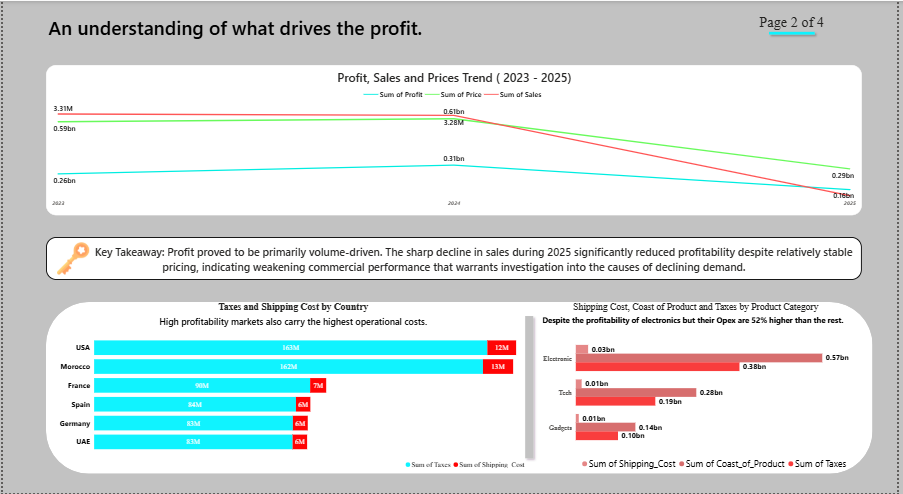

What the dashboard file says about the page in this screenshot:
{"tool":"powerbi","page":{"name":"Page 2","canvas":[2000,1100],"ordinal":1},"visuals":[{"type":"areaChart","title":"Profit, Sales and Prices Trend ( 2023 - 2025)","fields":{"Category":["DateDim.Year"],"Y":["Sum(SalesFactTable.Profit)","Sum(SalesFactTable.Price)"],"Y2":["Sum(SalesFactTable.Sales)"]},"box":[96,144,1824,336],"z":0},{"type":"shape","box":[96,672,1848,384],"z":1000},{"type":"clusteredBarChart","title":" Shipping Cost, Coast of Product and  Taxes by Product Category","fields":{"Category":["Product_Dim.Product_Category"],"Y":["Sum(SalesFactTable.Shipping_Cost)","Sum(SalesFactTable.Coast_of_Product)","Sum(SalesFactTable.Taxes)"]},"box":[1200,672,696,384],"z":2000},{"type":"barChart","title":"Taxes and Shipping Cost by Country","fields":{"Category":["Geo_Dim.Country"],"Y":["Sum(SalesFactTable.Taxes)","Sum(SalesFactTable.Shipping_Cost)"]},"box":[120,672,1056,384],"z":3000},{"type":"textbox","box":[1608,24,312,96],"z":4000},{"type":"shape","box":[1704,0,120,144],"z":5000},{"type":"textbox","box":[96,24,1056,96],"z":6000},{"type":"shape","box":[1104,696,144,336],"z":7000},{"type":"textbox","box":[96,528,1824,96],"z":8000},{"type":"image","box":[120.7,527.6,71.5,96.1],"z":9000}]}

Visuals, with their boxes in screenshot pixels (x1, y1, x2, y2), scaled from the page's 2000x1100 canvas onto the 903x494 screenshot:
"Profit, Sales and Prices Trend ( 2023 - 2025)" areaChart: 43:65:867:216
shape: 43:302:878:474
" Shipping Cost, Coast of Product and  Taxes by Product Category" clusteredBarChart: 542:302:856:474
"Taxes and Shipping Cost by Country" barChart: 54:302:531:474
textbox: 726:11:867:54
shape: 769:0:824:65
textbox: 43:11:520:54
shape: 498:313:563:463
textbox: 43:237:867:280
image: 54:237:87:280
